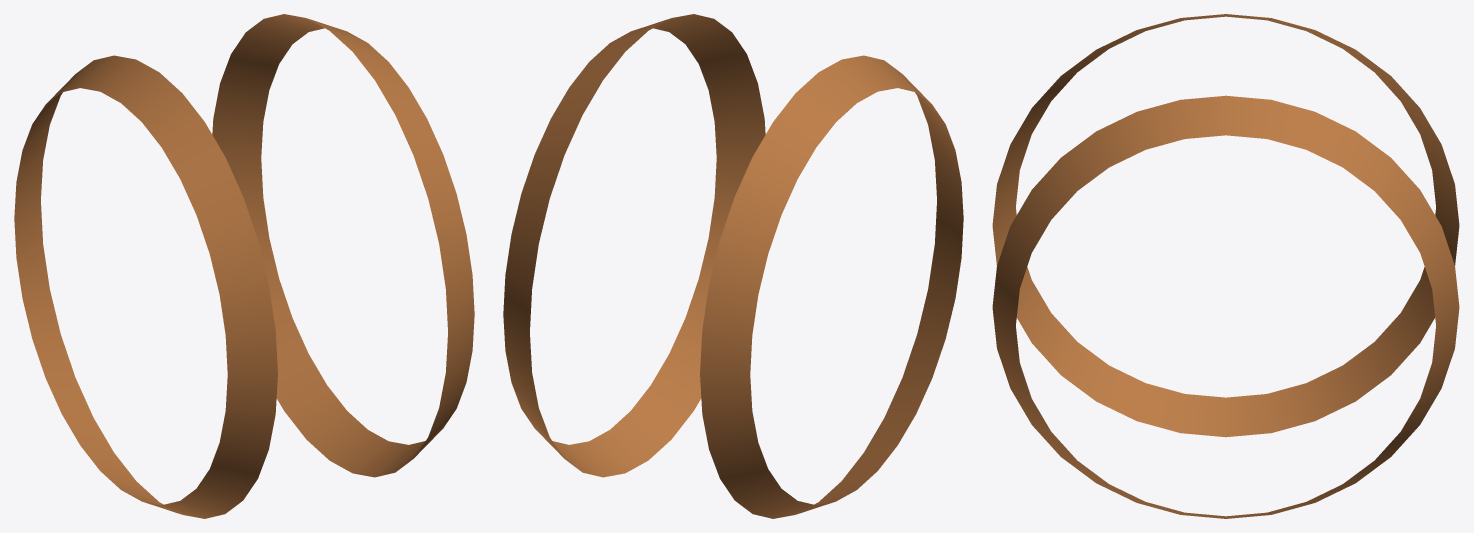
Rendered from ball_look_cutaway_c2.glb.
3 renders of one model, left to right at view 1: azimuth 30°, elevation 25°; view 2: azimuth 150°, elevation 25°; view 3: azimuth 270°, elevation 25°, orthographic.
Visible parts, largest first — view 1: Core; view 2: Core; view 3: Core.
Boxes of the visible parts, box(x1,y1,x2,y2) form: Core: box(14, 14, 474, 518); Core: box(503, 14, 963, 518); Core: box(992, 14, 1459, 518).
Bounding box in the file's own units: 1.09 × 1.82 × 1.82.
